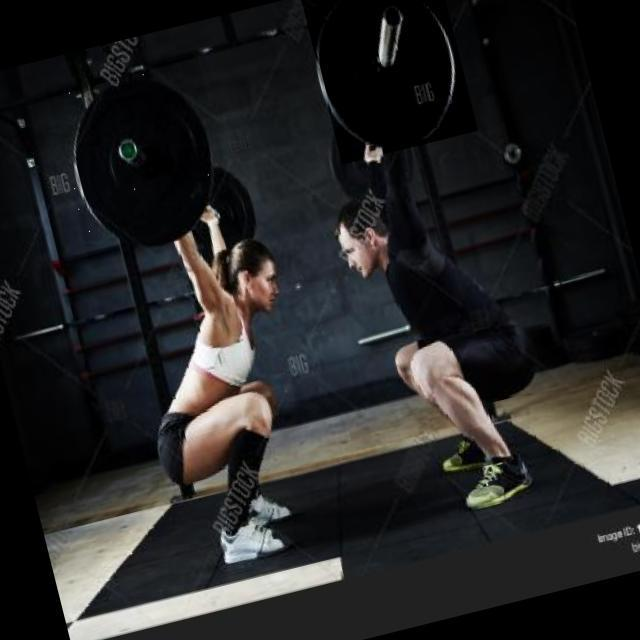barbell: (47, 49, 243, 271), (301, 1, 479, 165)
